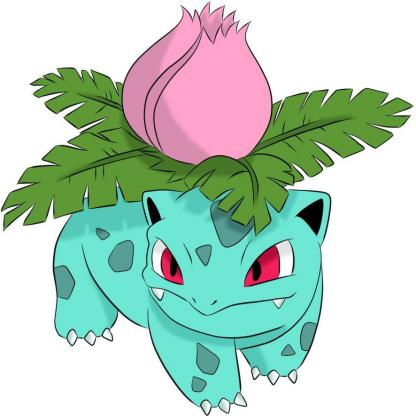Ivysaur: (9, 5, 416, 413)
